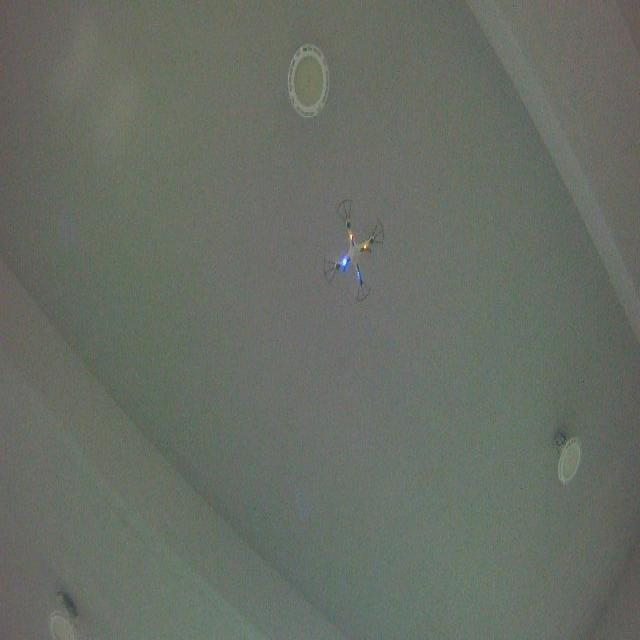drone: (320, 196, 387, 306)
